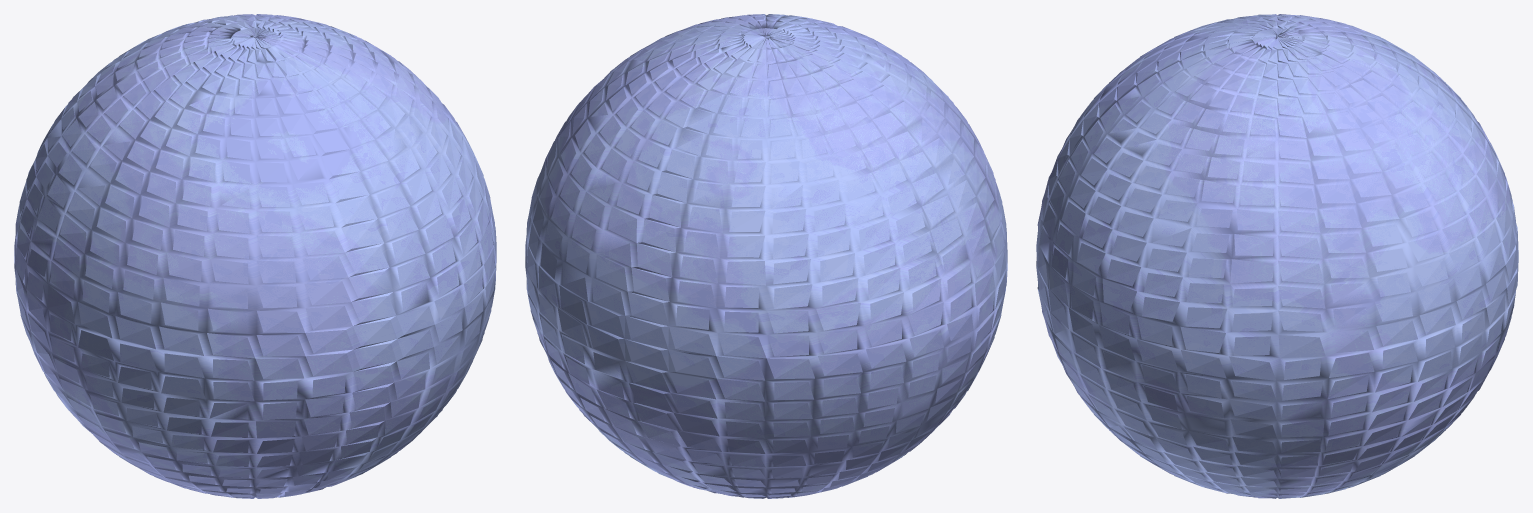
The model's file is disco_ball_novo-v1.glb.
3 views of the same model, side by side, from view 1: azimuth 30°, elevation 25°; view 2: azimuth 150°, elevation 25°; view 3: azimuth 270°, elevation 25° (orthographic).
Visible parts, largest first — view 1: discoball; view 2: discoball; view 3: discoball.
Part boxes in pixels (left/top/right/bottom): discoball: left=14, top=14, right=496, bottom=498; discoball: left=525, top=14, right=1007, bottom=498; discoball: left=1036, top=14, right=1518, bottom=498.
Bounding box in the file's own units: 2.01 × 2.01 × 2.
Materials: 1 (1 with a texture image).
